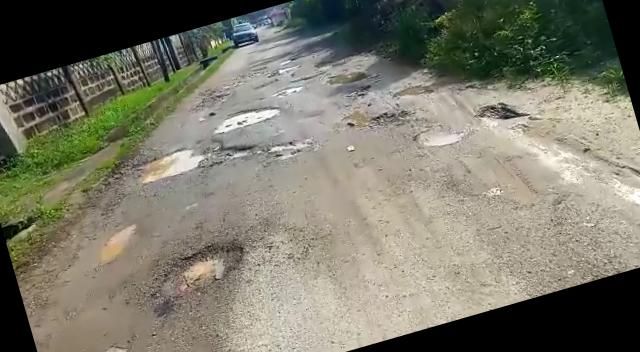pothole: (136, 234, 260, 318), (228, 124, 318, 175), (131, 141, 210, 187), (209, 98, 284, 136), (414, 119, 469, 152), (274, 82, 309, 98)
